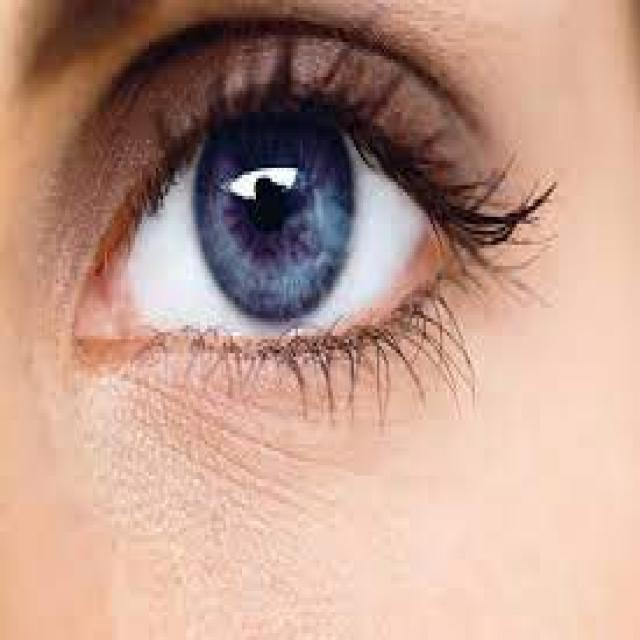Eyes-iris: (187, 86, 369, 341)
